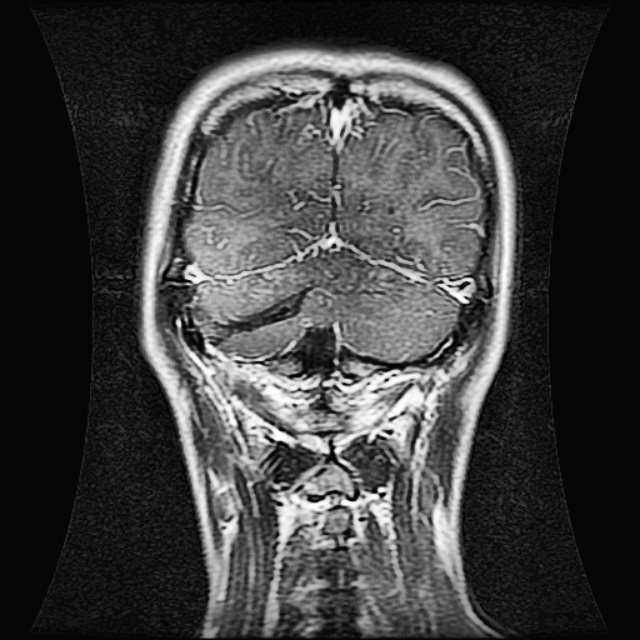Meningioma: (208, 288, 309, 342)
